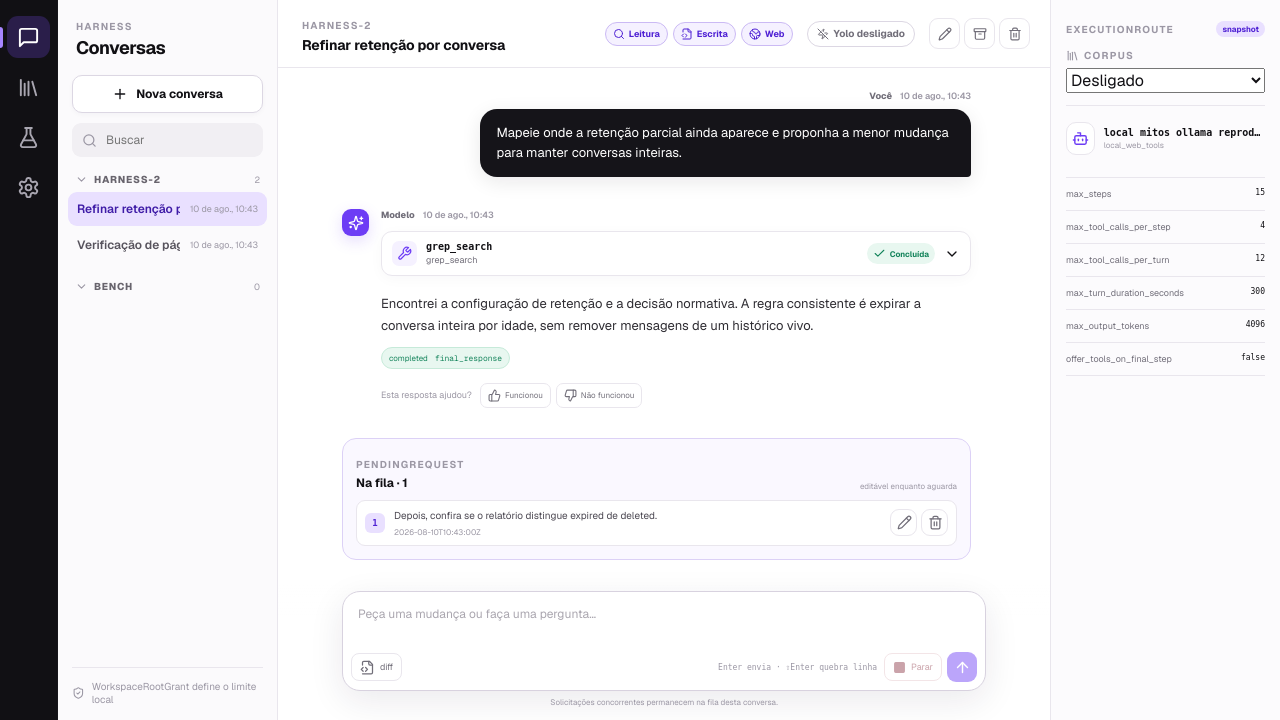
Test: App › grava a configuração do host pelo painel e avisa que exige reinício
Click the button named "Configurações" at (28, 187), box [7,166,50,208]
(page scrolled)
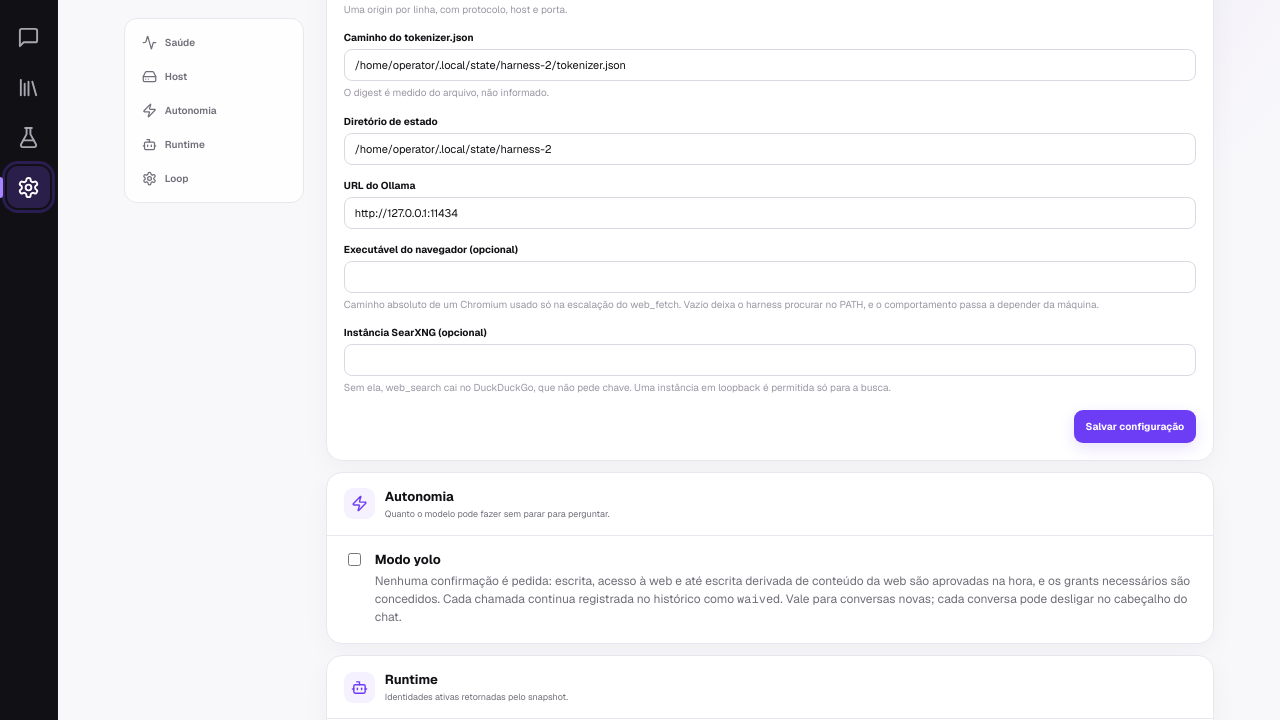
Type "http://127.0.0.1:8080/search" into the field labelled "Instância SearXNG" at (770, 360), box [344,344,1196,376]
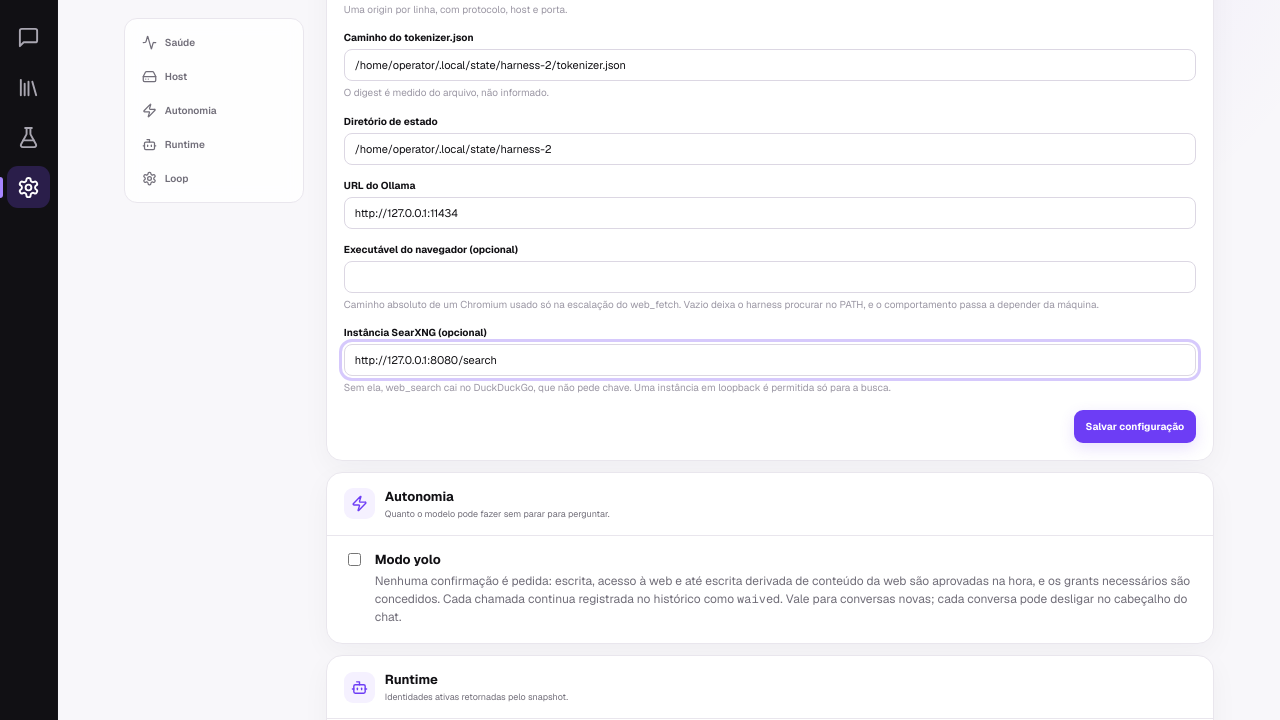
Click the button "Salvar configuração" at (1135, 426), box [1074,410,1196,442]
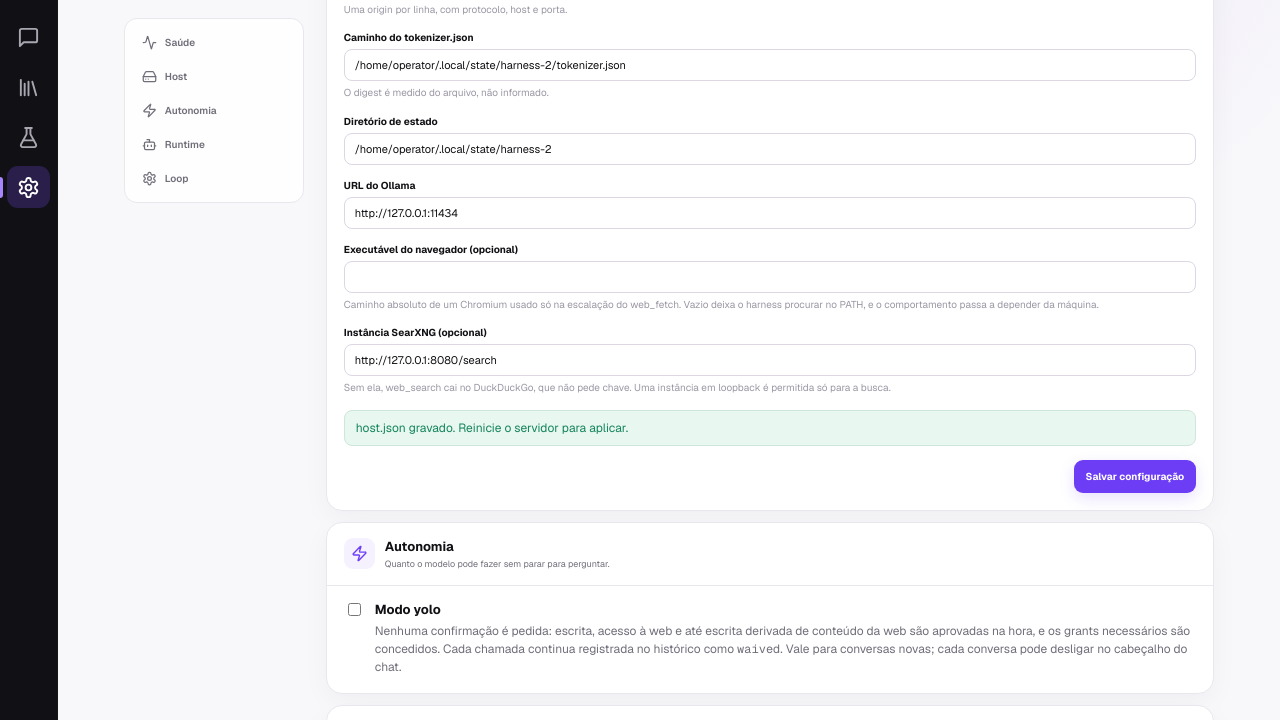
expect the text "host.json gravado. Reinicie o servidor para aplicar." is shown: met, box [344,410,1196,446]
